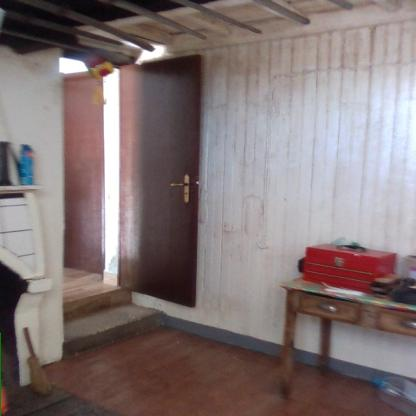open: (38, 37, 217, 359)
